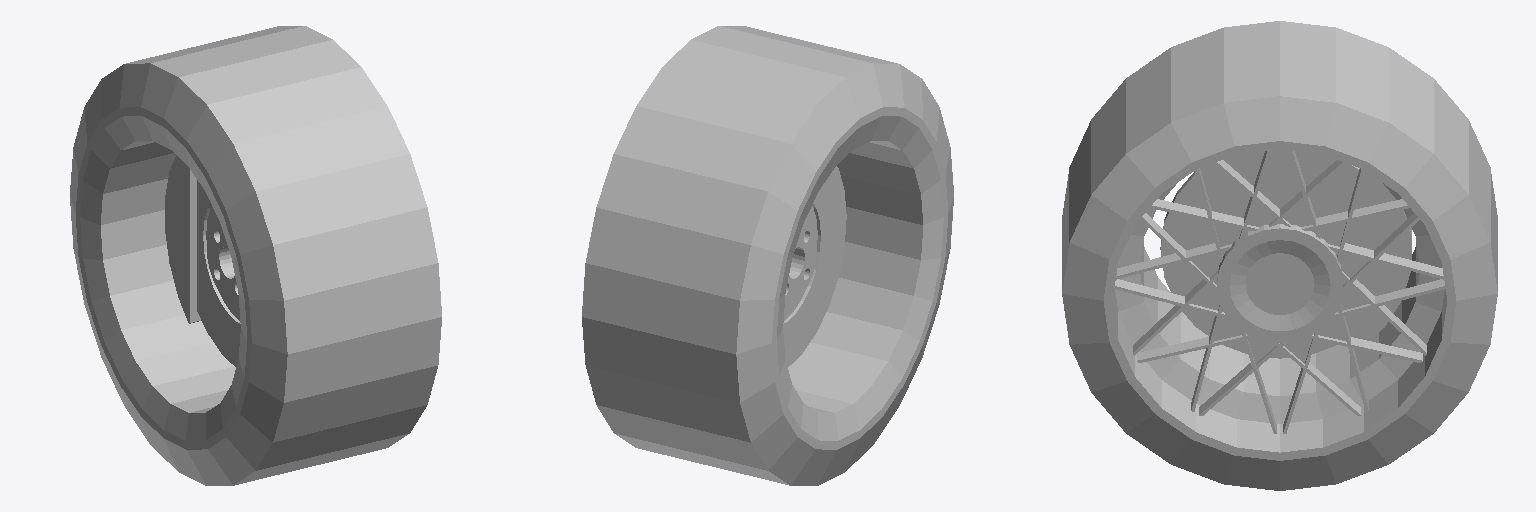
File: wheel1.obj
3 renders of one model, left to right at view 1: azimuth 30°, elevation 25°; view 2: azimuth 150°, elevation 25°; view 3: azimuth 270°, elevation 25°, orthographic.
Parts seen in each view (by area): view 1: Mesh4 Component_12_1 Component_109_1 Component_111_1 ske4DD9_1 M, Mesh3 Component_10_1 Component_109_1 Component_111_1 ske4DD9_1 M, Mesh2 Component_17_1 Component_18_1 Disco_de_freno1 ske4DD9_1 Mo, Mesh1 Component_16_1 Component_18_1 Disco_de_freno1 ske4DD9_1 Mo; view 2: Mesh4 Component_12_1 Component_109_1 Component_111_1 ske4DD9_1 M, Mesh3 Component_10_1 Component_109_1 Component_111_1 ske4DD9_1 M, Mesh2 Component_17_1 Component_18_1 Disco_de_freno1 ske4DD9_1 Mo; view 3: Mesh4 Component_12_1 Component_109_1 Component_111_1 ske4DD9_1 M, Mesh3 Component_10_1 Component_109_1 Component_111_1 ske4DD9_1 M, Mesh5 Component_15_1 Component_111_1 ske4DD9_1 Model, Mesh6 Component_15_1 Component_111_1 ske4DD9_1 Model, Mesh2 Component_17_1 Component_18_1 Disco_de_freno1 ske4DD9_1 Mo, Mesh1 Component_16_1 Component_18_1 Disco_de_freno1 ske4DD9_1 Mo.
Boxes of the visible parts, <box> form: Mesh4 Component_12_1 Component_109_1 Component_111_1 ske4DD9_1 M: <box>70,26,441,485</box>; Mesh3 Component_10_1 Component_109_1 Component_111_1 ske4DD9_1 M: <box>76,107,251,449</box>; Mesh2 Component_17_1 Component_18_1 Disco_de_freno1 ske4DD9_1 Mo: <box>197,180,240,366</box>; Mesh1 Component_16_1 Component_18_1 Disco_de_freno1 ske4DD9_1 Mo: <box>165,155,201,323</box>; Mesh4 Component_12_1 Component_109_1 Component_111_1 ske4DD9_1 M: <box>582,26,953,485</box>; Mesh3 Component_10_1 Component_109_1 Component_111_1 ske4DD9_1 M: <box>772,107,947,449</box>; Mesh2 Component_17_1 Component_18_1 Disco_de_freno1 ske4DD9_1 Mo: <box>783,166,846,366</box>; Mesh4 Component_12_1 Component_109_1 Component_111_1 ske4DD9_1 M: <box>1062,21,1497,490</box>; Mesh3 Component_10_1 Component_109_1 Component_111_1 ske4DD9_1 M: <box>1104,141,1455,460</box>; Mesh5 Component_15_1 Component_111_1 ske4DD9_1 Model: <box>1114,150,1445,433</box>; Mesh6 Component_15_1 Component_111_1 ske4DD9_1 Model: <box>1217,224,1342,342</box>; Mesh2 Component_17_1 Component_18_1 Disco_de_freno1 ske4DD9_1 Mo: <box>1160,149,1360,358</box>; Mesh1 Component_16_1 Component_18_1 Disco_de_freno1 ske4DD9_1 Mo: <box>1361,171,1411,340</box>.
Size of the model in its own units: 0.3412 by 0.6984 by 0.6984.